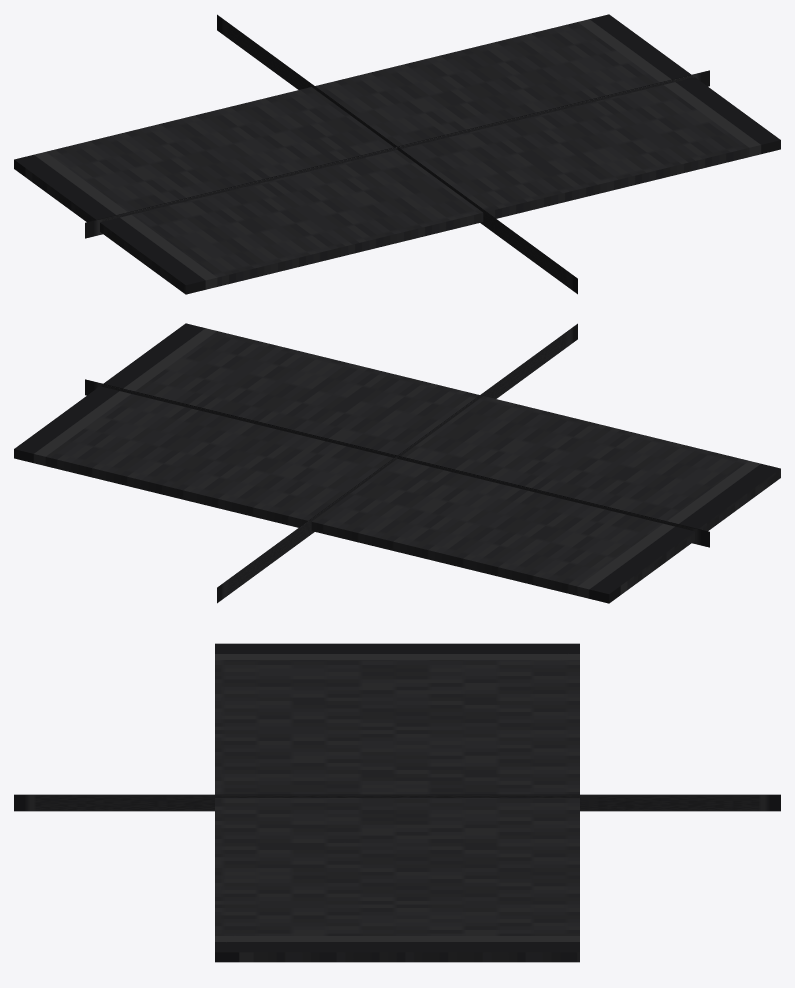
The model's file is mat_rubber_2x1.dae.
3 views of the same model, one above another, from view 1: azimuth 30°, elevation 25°; view 2: azimuth 150°, elevation 25°; view 3: azimuth 270°, elevation 25° (orthographic). The views are drawn at different scales.
Visible parts, largest first — view 1: mat_rubber_2x1_a800, mat_rubber_2x1_a50, mat_rubber_2x1_a200; view 2: mat_rubber_2x1_a800, mat_rubber_2x1_a50, mat_rubber_2x1_a200; view 3: mat_rubber_2x1_a800, mat_rubber_2x1_a50.
Boxes of the visible parts, x1,y1,x2,y2 form: mat_rubber_2x1_a800: [14, 14, 780, 294]; mat_rubber_2x1_a50: [85, 14, 709, 294]; mat_rubber_2x1_a200: [14, 160, 177, 285]; mat_rubber_2x1_a800: [14, 323, 780, 603]; mat_rubber_2x1_a50: [85, 323, 709, 603]; mat_rubber_2x1_a200: [60, 466, 755, 602]; mat_rubber_2x1_a800: [215, 643, 579, 962]; mat_rubber_2x1_a50: [14, 794, 780, 811].
Size of the model in its own units: 2.1 by 2.1 by 0.051.
Materials: 2 (1 with a texture image).
